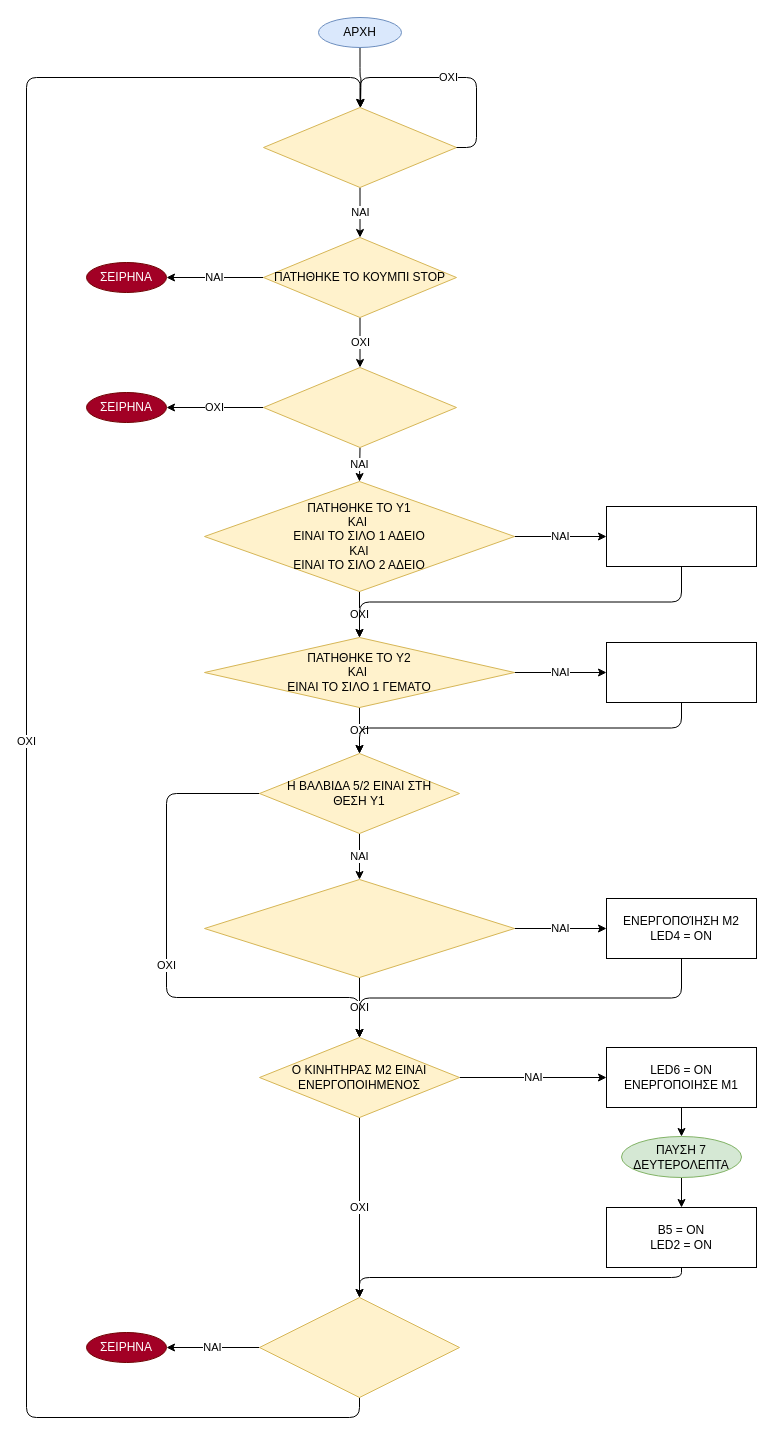
The diagram is 774 pixels wide and 1443 high, and some of its shapes have lost their labels. Here are the shapes that lost their labels. From the top down, the centre of each, then its label:
At point (359, 147): "ΠΑΤΗΘΗΚΕ ΤΟ ΚΟΥΜΠΙ START".
At point (359, 407): "ΕΙΝΑΙ ΤΟ ΣΙΛΟ 0 ΓΕΜΑΤΟ".
At point (681, 536): "ΒΑΛΒΙΔΑ 5/2 = ΘΕΣΗ Y1 LED5 = ON".
At point (681, 672): "ΒΑΛΒΙΔΑ 5/2 = ΘΕΣΗ Y2 LED3 = ON".
At point (359, 928): "ΤΟ ΣΙΛΟ 1 ΔΕΝ ΕΙΝΑΙ ΓΕΜΑΤΟ Ή ΤΟ ΣΙΛΟ 2 ΔΕΝ ΕΙΝΑΙ ΓΕΜΑΤΟ".
At point (359, 1347): "ΠΑΤΗΘΗΚΕ ΤΟ Q1 Ή ΤΟ Q2".
